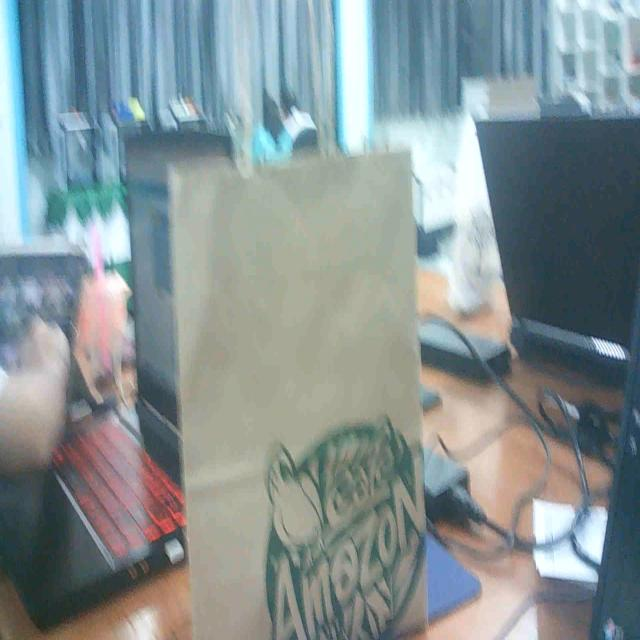bag: (169, 153, 433, 640)
